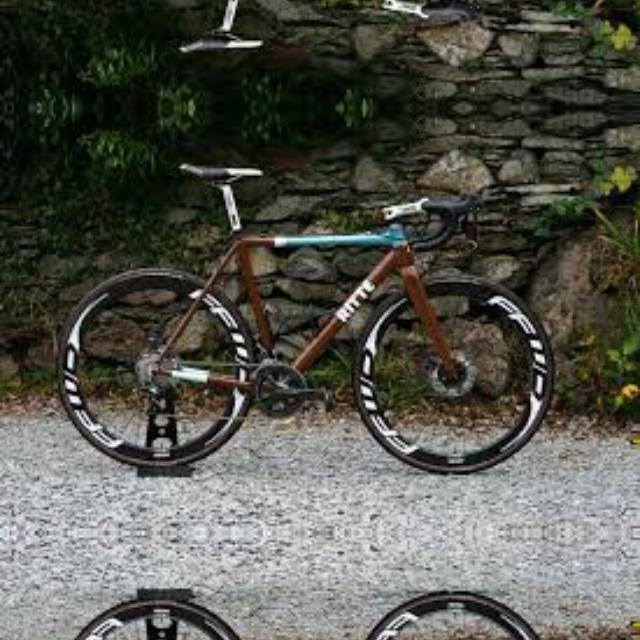obstacle: (21, 133, 588, 480), (21, 0, 588, 80), (21, 585, 588, 640)
